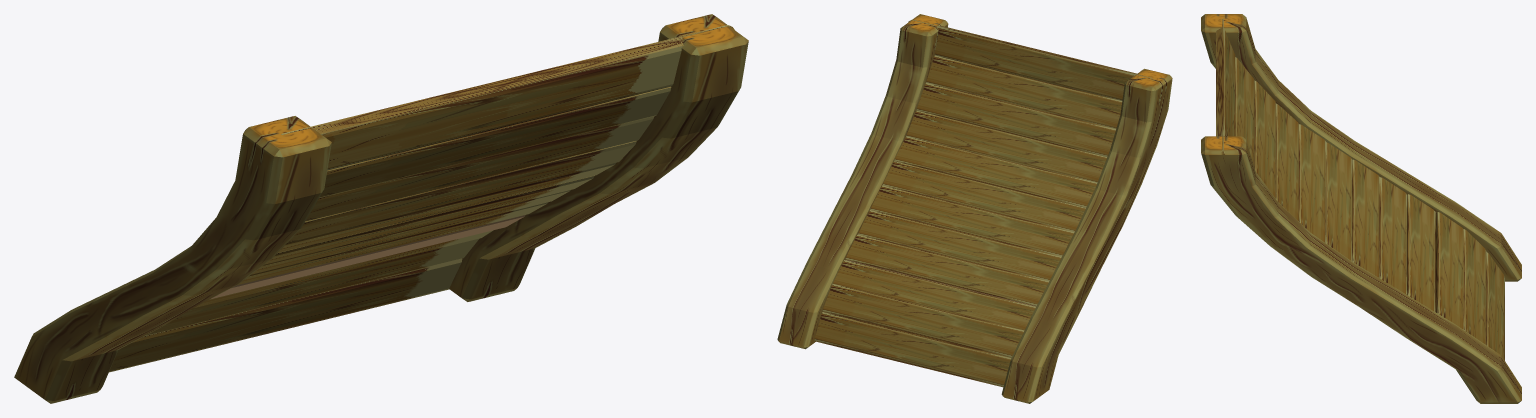
Rendered from BaseRoof_1.fbx.
3 views of the same model, side by side, from view 1: azimuth 30°, elevation 25°; view 2: azimuth 150°, elevation 25°; view 3: azimuth 270°, elevation 25° (orthographic). The views are drawn at different scales.
Parts seen in each view (by area): view 1: WallWoodV.228; view 2: WallWoodV.228; view 3: WallWoodV.228.
Part boxes in pixels (x1,y1,x2,y2): WallWoodV.228: (14, 14, 748, 403); WallWoodV.228: (777, 14, 1172, 403); WallWoodV.228: (1201, 14, 1521, 403).
Bounding box in the file's own units: 2.76 × 2.35 × 2.69.
